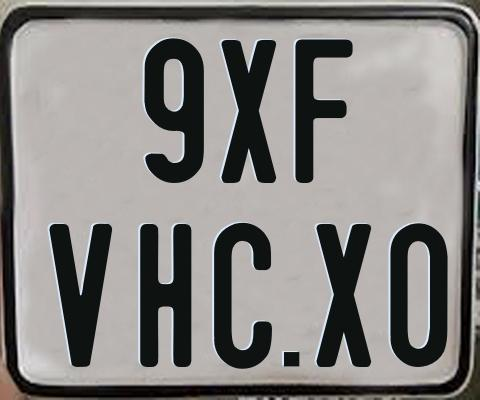0: (389, 222, 451, 367)
9: (144, 35, 204, 186)
C: (212, 223, 273, 369)
F: (293, 39, 353, 185)
H: (137, 224, 195, 371)
V: (50, 222, 115, 369)
X: (220, 38, 279, 181), (317, 223, 372, 371)
